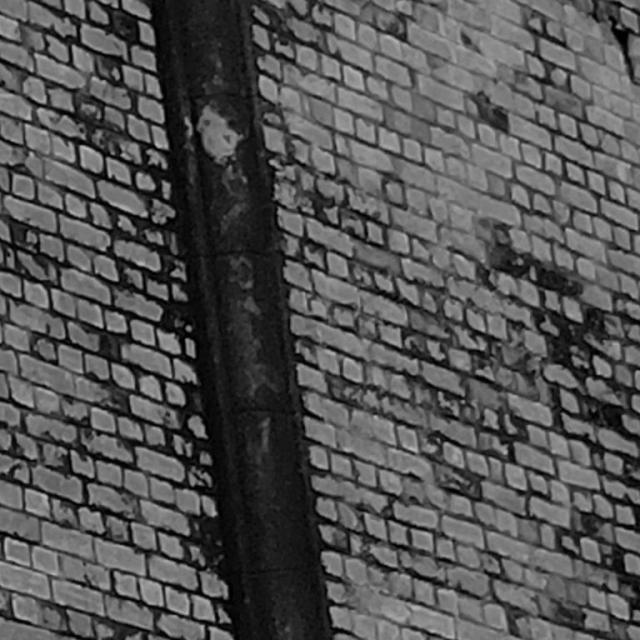crack: (586, 0, 640, 84)
